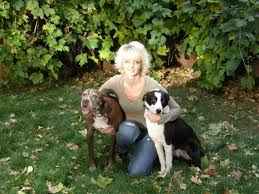dog_sitting: (142, 88, 206, 183)
